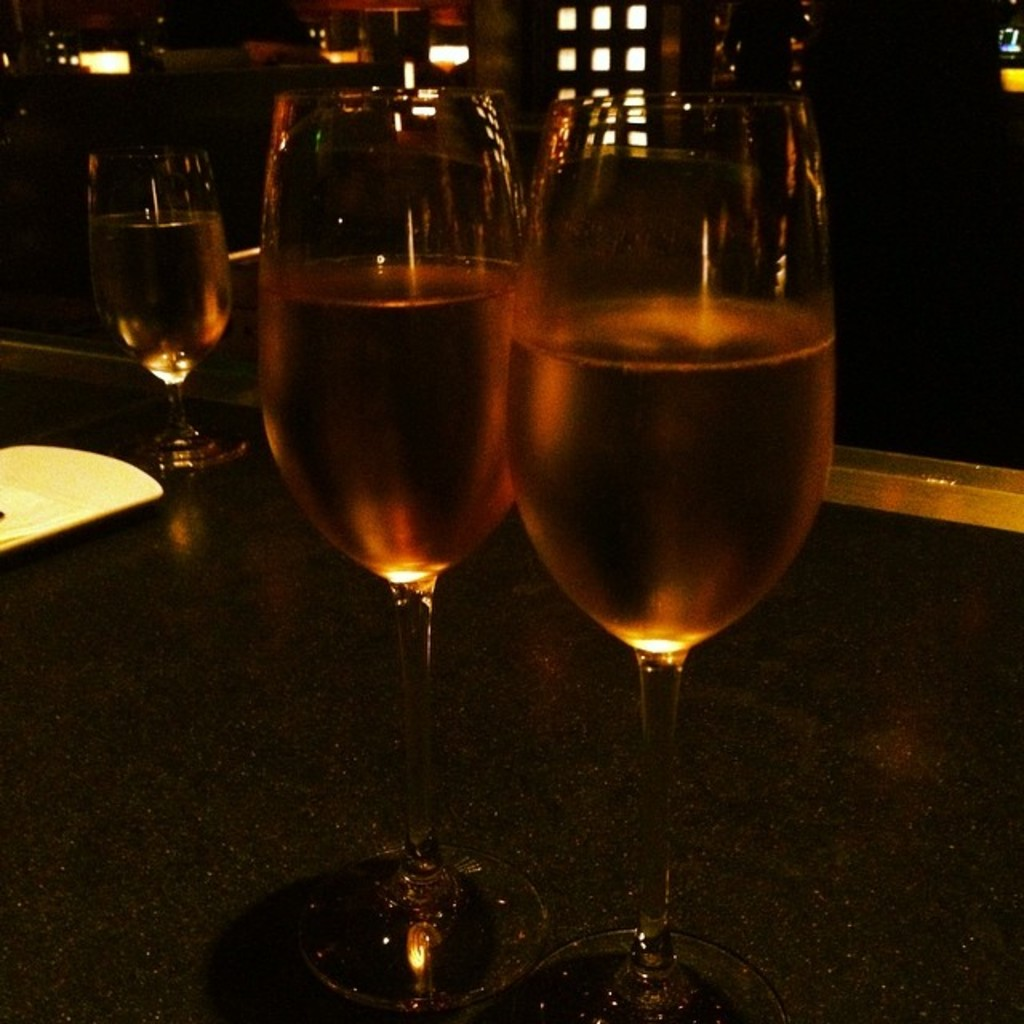Beer: (510, 294, 830, 660), (256, 278, 515, 588)
